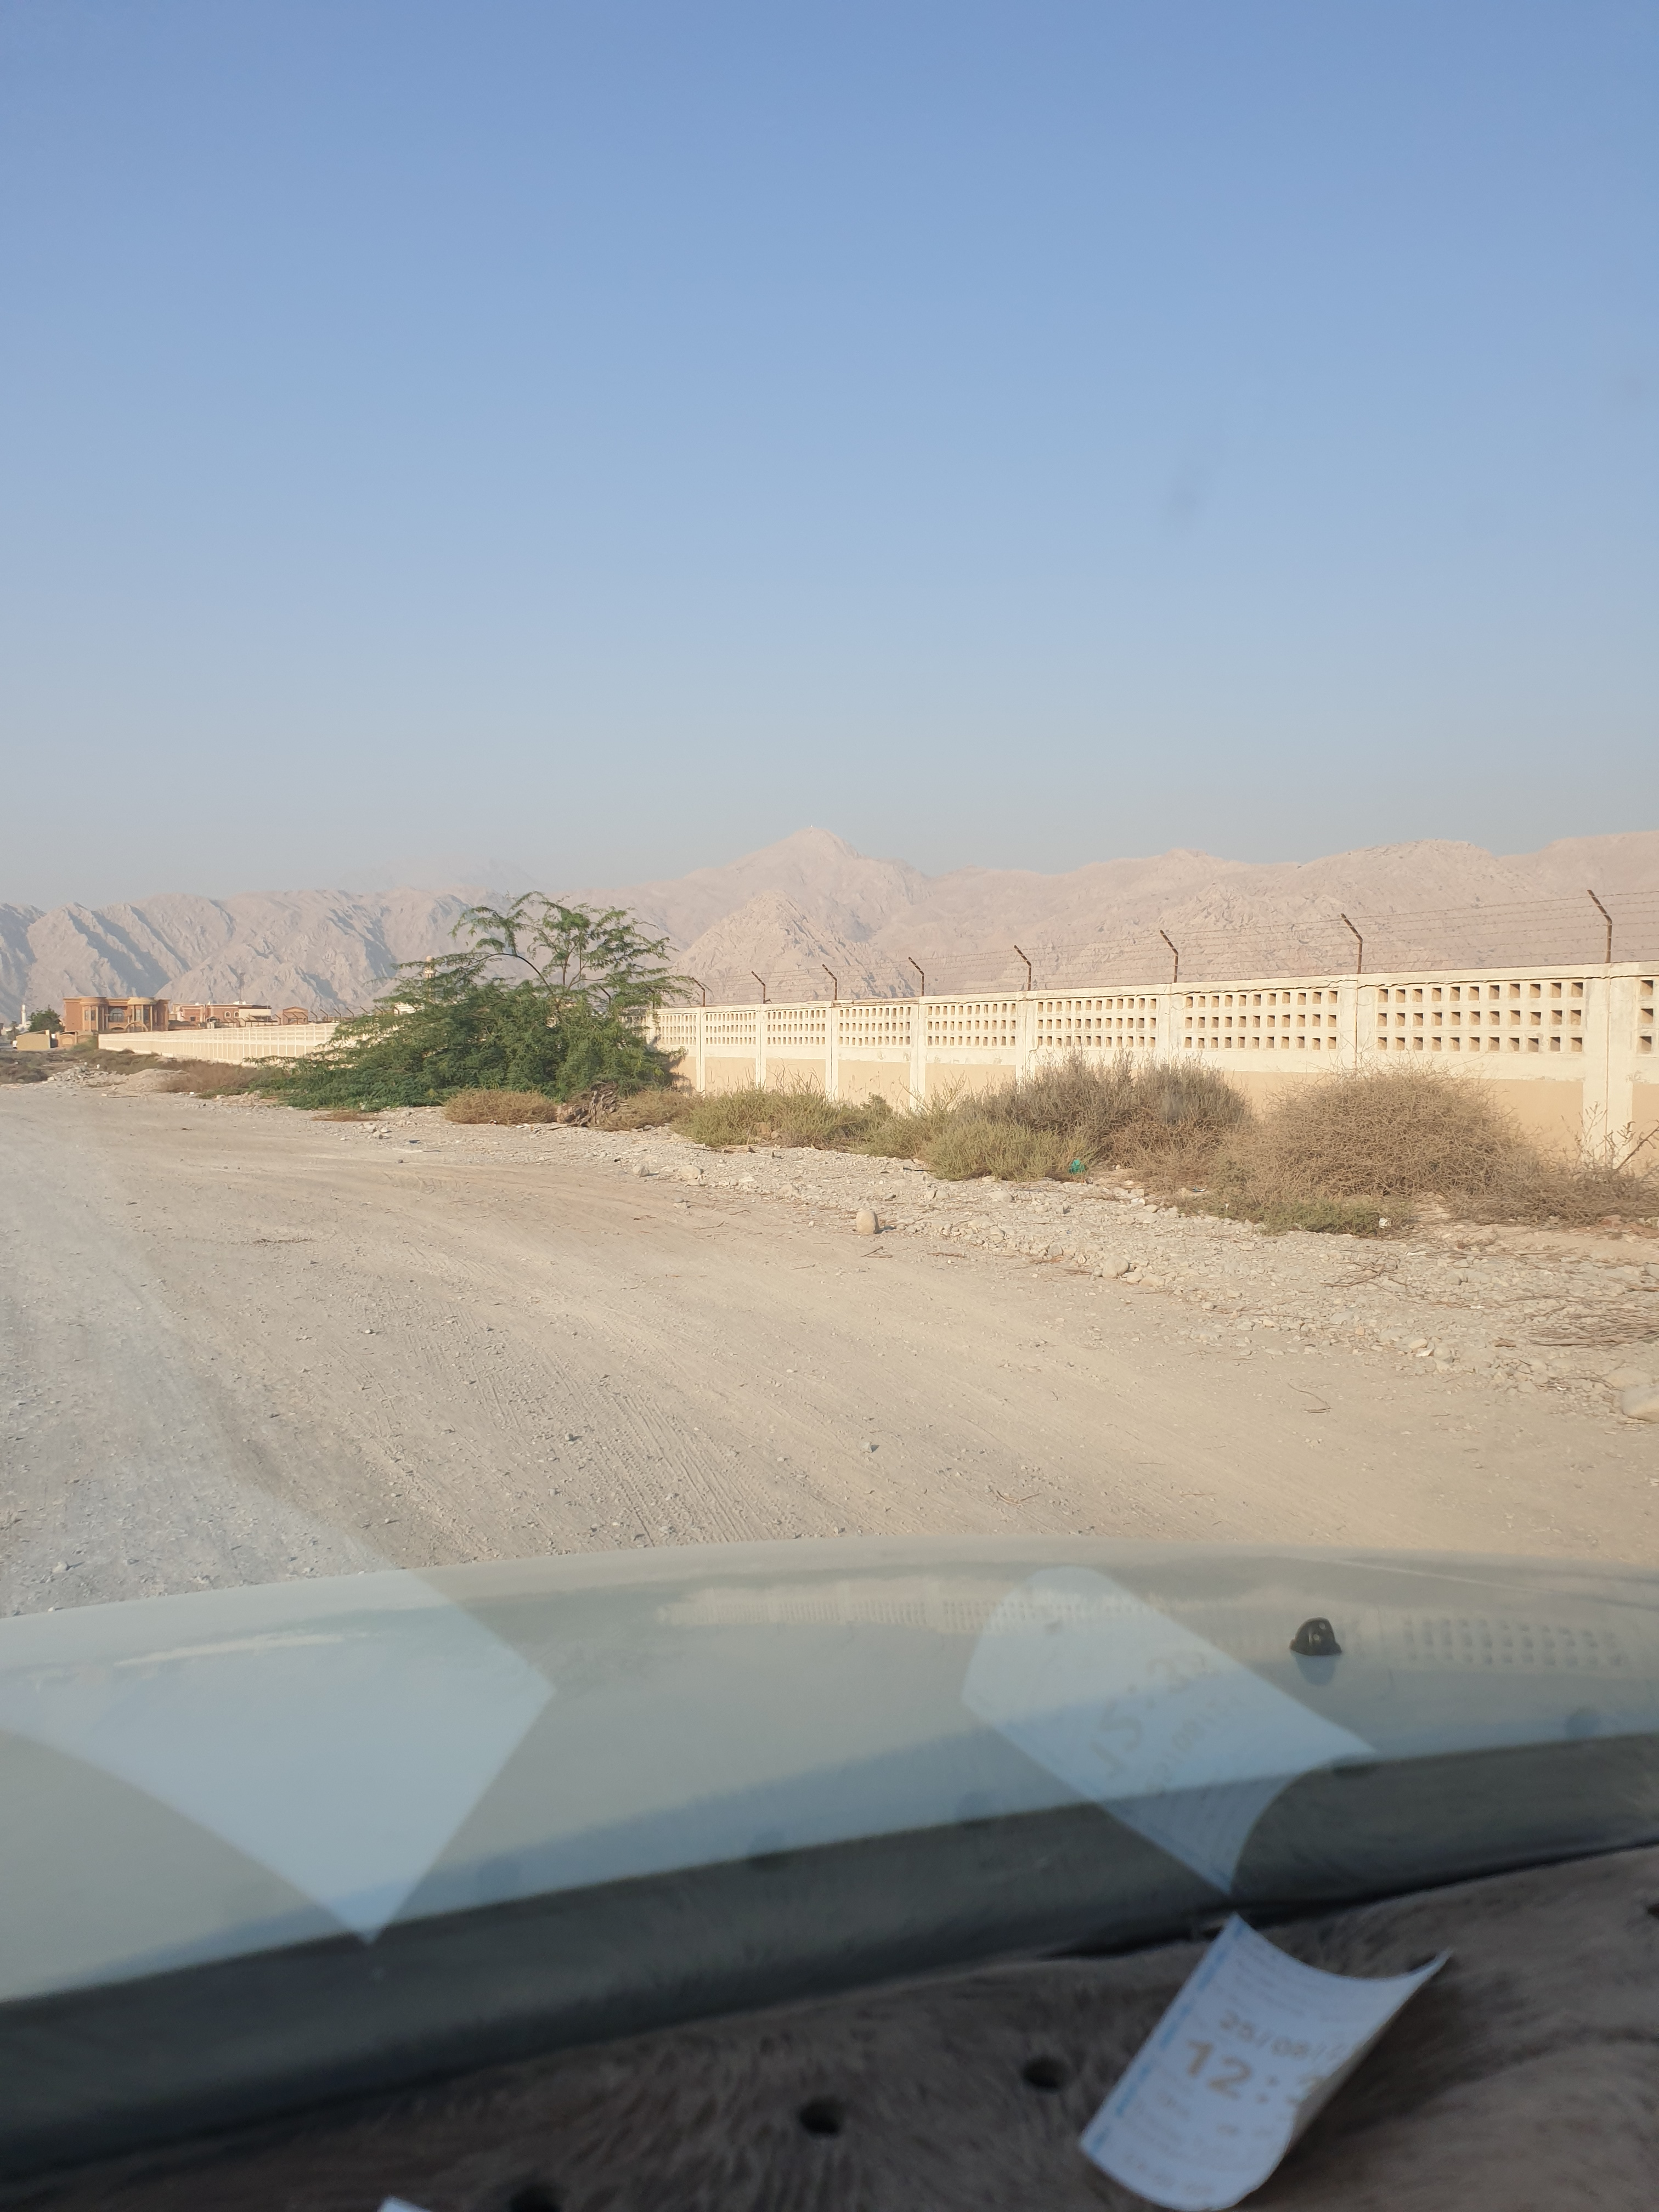fallen_trees: (1493, 1312, 1645, 1366), (1073, 1184, 1131, 1207)
